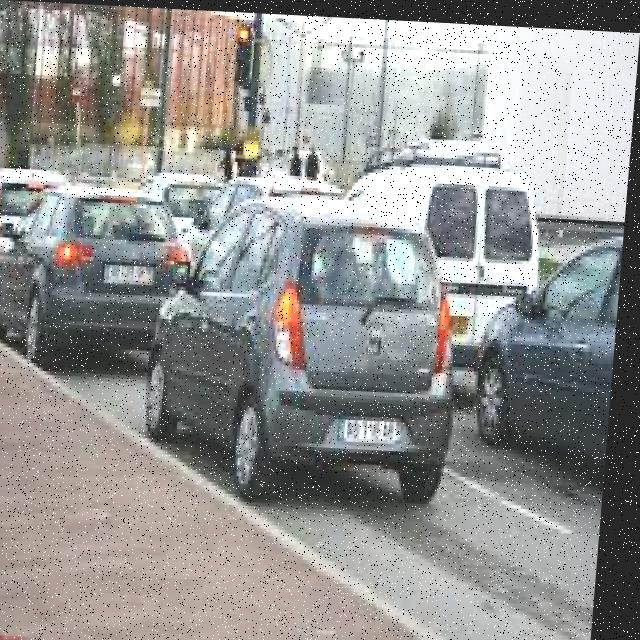car: (153, 189, 471, 518), (461, 209, 628, 510), (0, 179, 190, 383)
